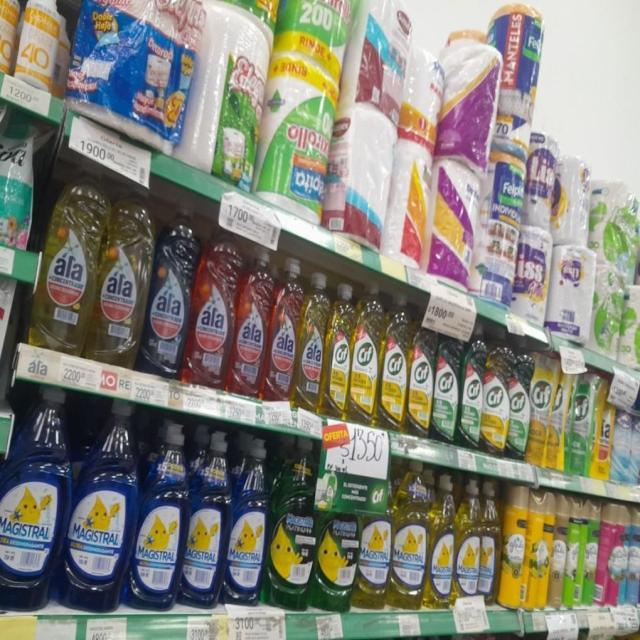ala_conc_amarillo: (34, 174, 94, 354), (95, 195, 143, 365), (298, 270, 324, 412)
ala_conc_azul: (144, 209, 188, 379)
ala_conc_rojo: (189, 227, 231, 390), (232, 244, 267, 398), (268, 256, 298, 404)
ala_sachet_amarillo: (596, 376, 611, 480)
cif_conc_bot_amarilla: (350, 283, 380, 427), (381, 292, 408, 432), (325, 281, 350, 420), (483, 327, 508, 459), (408, 309, 433, 438)
cif_conc_botella_verde: (434, 319, 459, 445), (460, 322, 482, 452), (509, 338, 529, 462)
cif_conc_sachet_amarillo: (530, 350, 549, 467)
cif_conc_sachet_verde: (569, 370, 592, 476)
magistral_con_amarillo: (392, 468, 426, 610), (428, 473, 455, 610), (456, 477, 480, 602), (480, 479, 499, 605)
magistral_con_azul: (0, 386, 65, 612), (67, 399, 133, 612), (135, 420, 183, 611), (185, 428, 225, 608), (227, 436, 267, 606)
